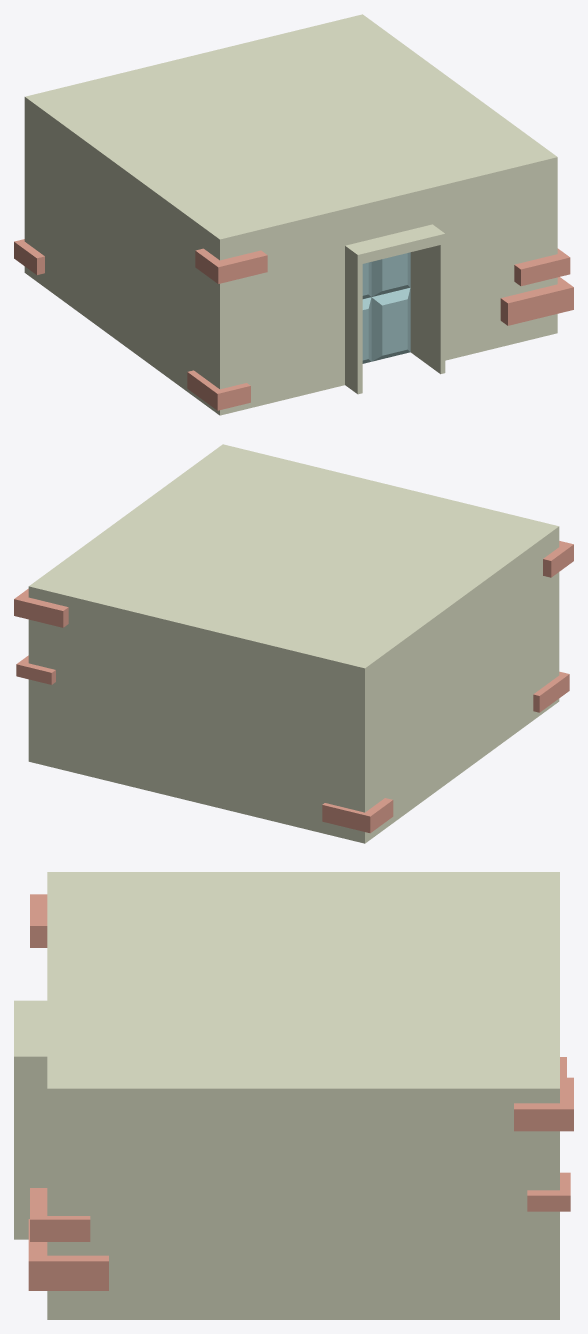
The model's file is VrataFixed.fbx.
3 views of the same model, one above another, from view 1: azimuth 30°, elevation 25°; view 2: azimuth 150°, elevation 25°; view 3: azimuth 270°, elevation 25° (orthographic). The views are drawn at different scales.
Parts seen in each view (by area): view 1: Cube.010; view 2: Cube.010; view 3: Cube.010.
Boxes of the visible parts, left/top/right/bottom form: Cube.010: left=14, top=14, right=573, bottom=415; Cube.010: left=14, top=444, right=573, bottom=843; Cube.010: left=14, top=872, right=573, bottom=1319.
Bounding box in the file's own units: 210 × 99.62 × 219.
